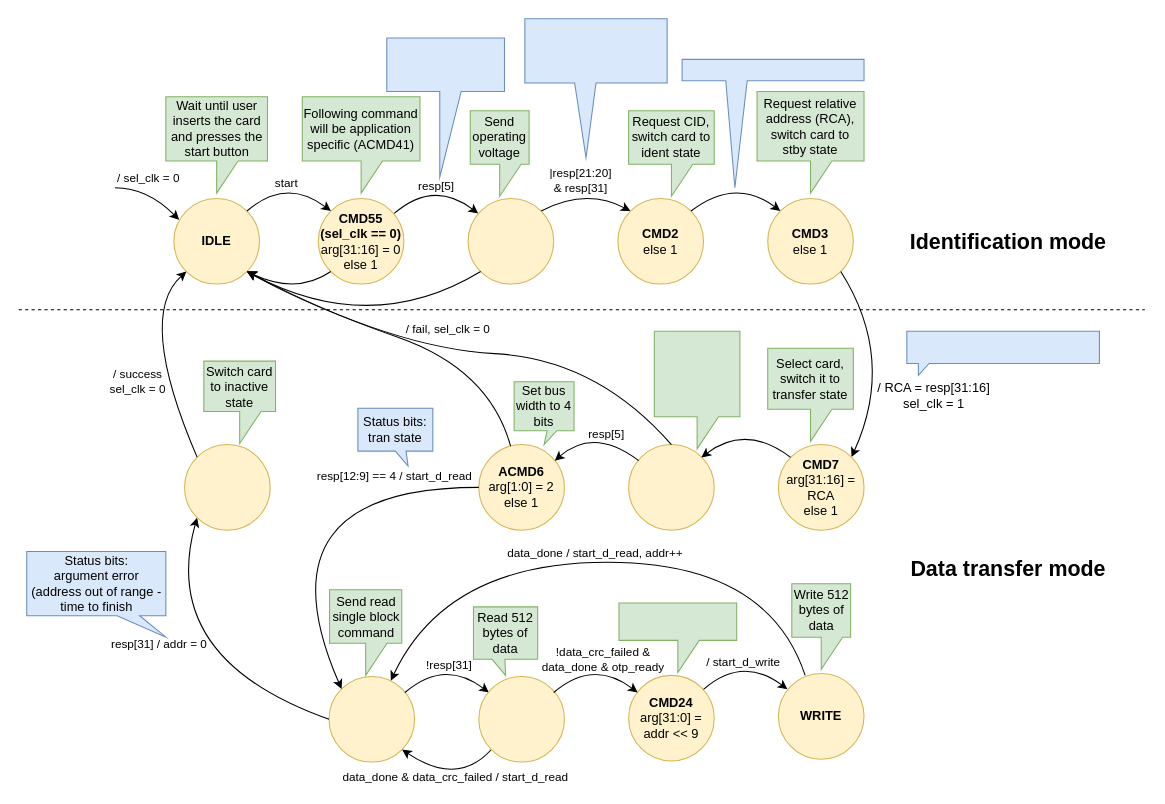
The diagram is 1165 pixels wide and 804 high, and some of its shapes have lost their labels. The centre of each missing label's shape, as x and y in pixels:
"ACMD41 arg[21:20] = 3 arg[31] = 1 else 0" belongs at [510,240].
"CMD15 arg[31:16] = RCA else 1" belongs at [227,487].
"CMD17 arg[31:0] = addr << 9" belongs at [371,718].
"CMD55 (sel_clk == 1) arg[31:16] = RCA else 1" belongs at [671,487].
"Following command will be application specific (ACMD6)" belongs at [696,389].
"Memorize the RCA, switch to fast (<= 25 MHz) clock" belongs at [1002,352].
"OCR register: Voltage 3.3V supported by card and card is not busy" belongs at [595,88].
"READ gen_otp = 1" belongs at [521,718].
"Receive response and ignore it" belongs at [772,123].
"Send write single block command" belongs at [677,637].
"Status bit: next command is application-specific" belongs at [445,107].
